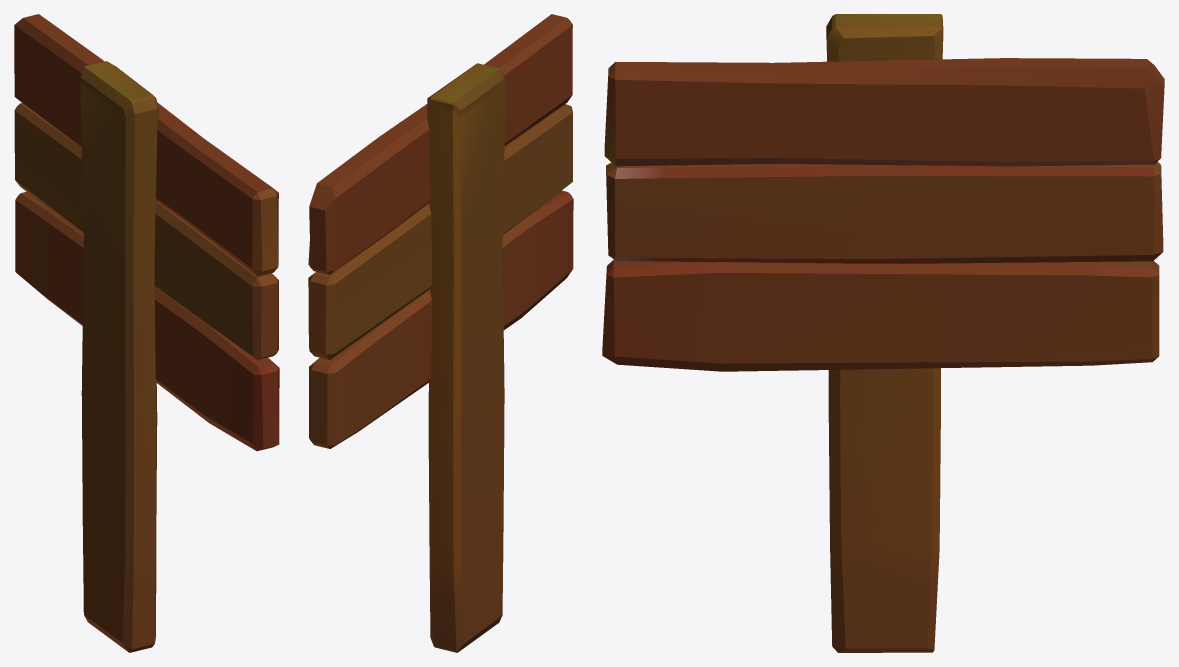
The model's file is sign.fbx.
3 views of the same model, side by side, from view 1: azimuth 30°, elevation 25°; view 2: azimuth 150°, elevation 25°; view 3: azimuth 270°, elevation 25° (orthographic). The views are drawn at different scales.
Visible parts, largest first — view 1: Cube; view 2: Cube; view 3: Cube.
Boxes of the visible parts, <box> form: Cube: <box>14,14,279,652</box>; Cube: <box>308,14,573,652</box>; Cube: <box>602,14,1164,652</box>.
Size of the model in its own units: 22.04 by 200 by 163.
1 material, 1 textured.
